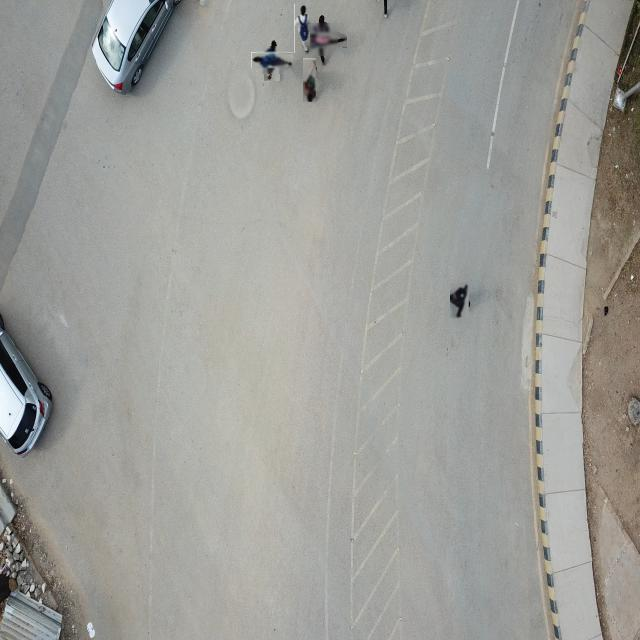Manusia: (305, 23, 339, 57), (258, 46, 288, 75), (294, 4, 311, 54), (450, 283, 470, 319), (303, 58, 317, 103)
